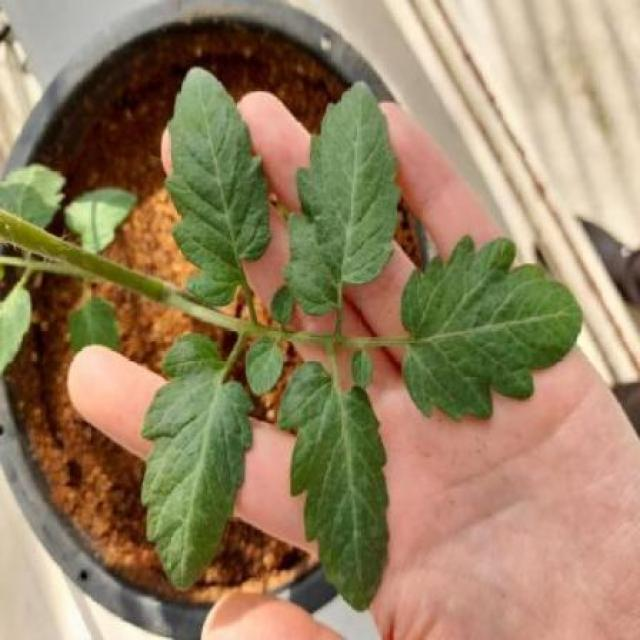Healthy: (400, 237, 581, 422), (142, 334, 255, 589), (278, 360, 391, 610), (282, 82, 401, 317), (166, 68, 271, 306)
